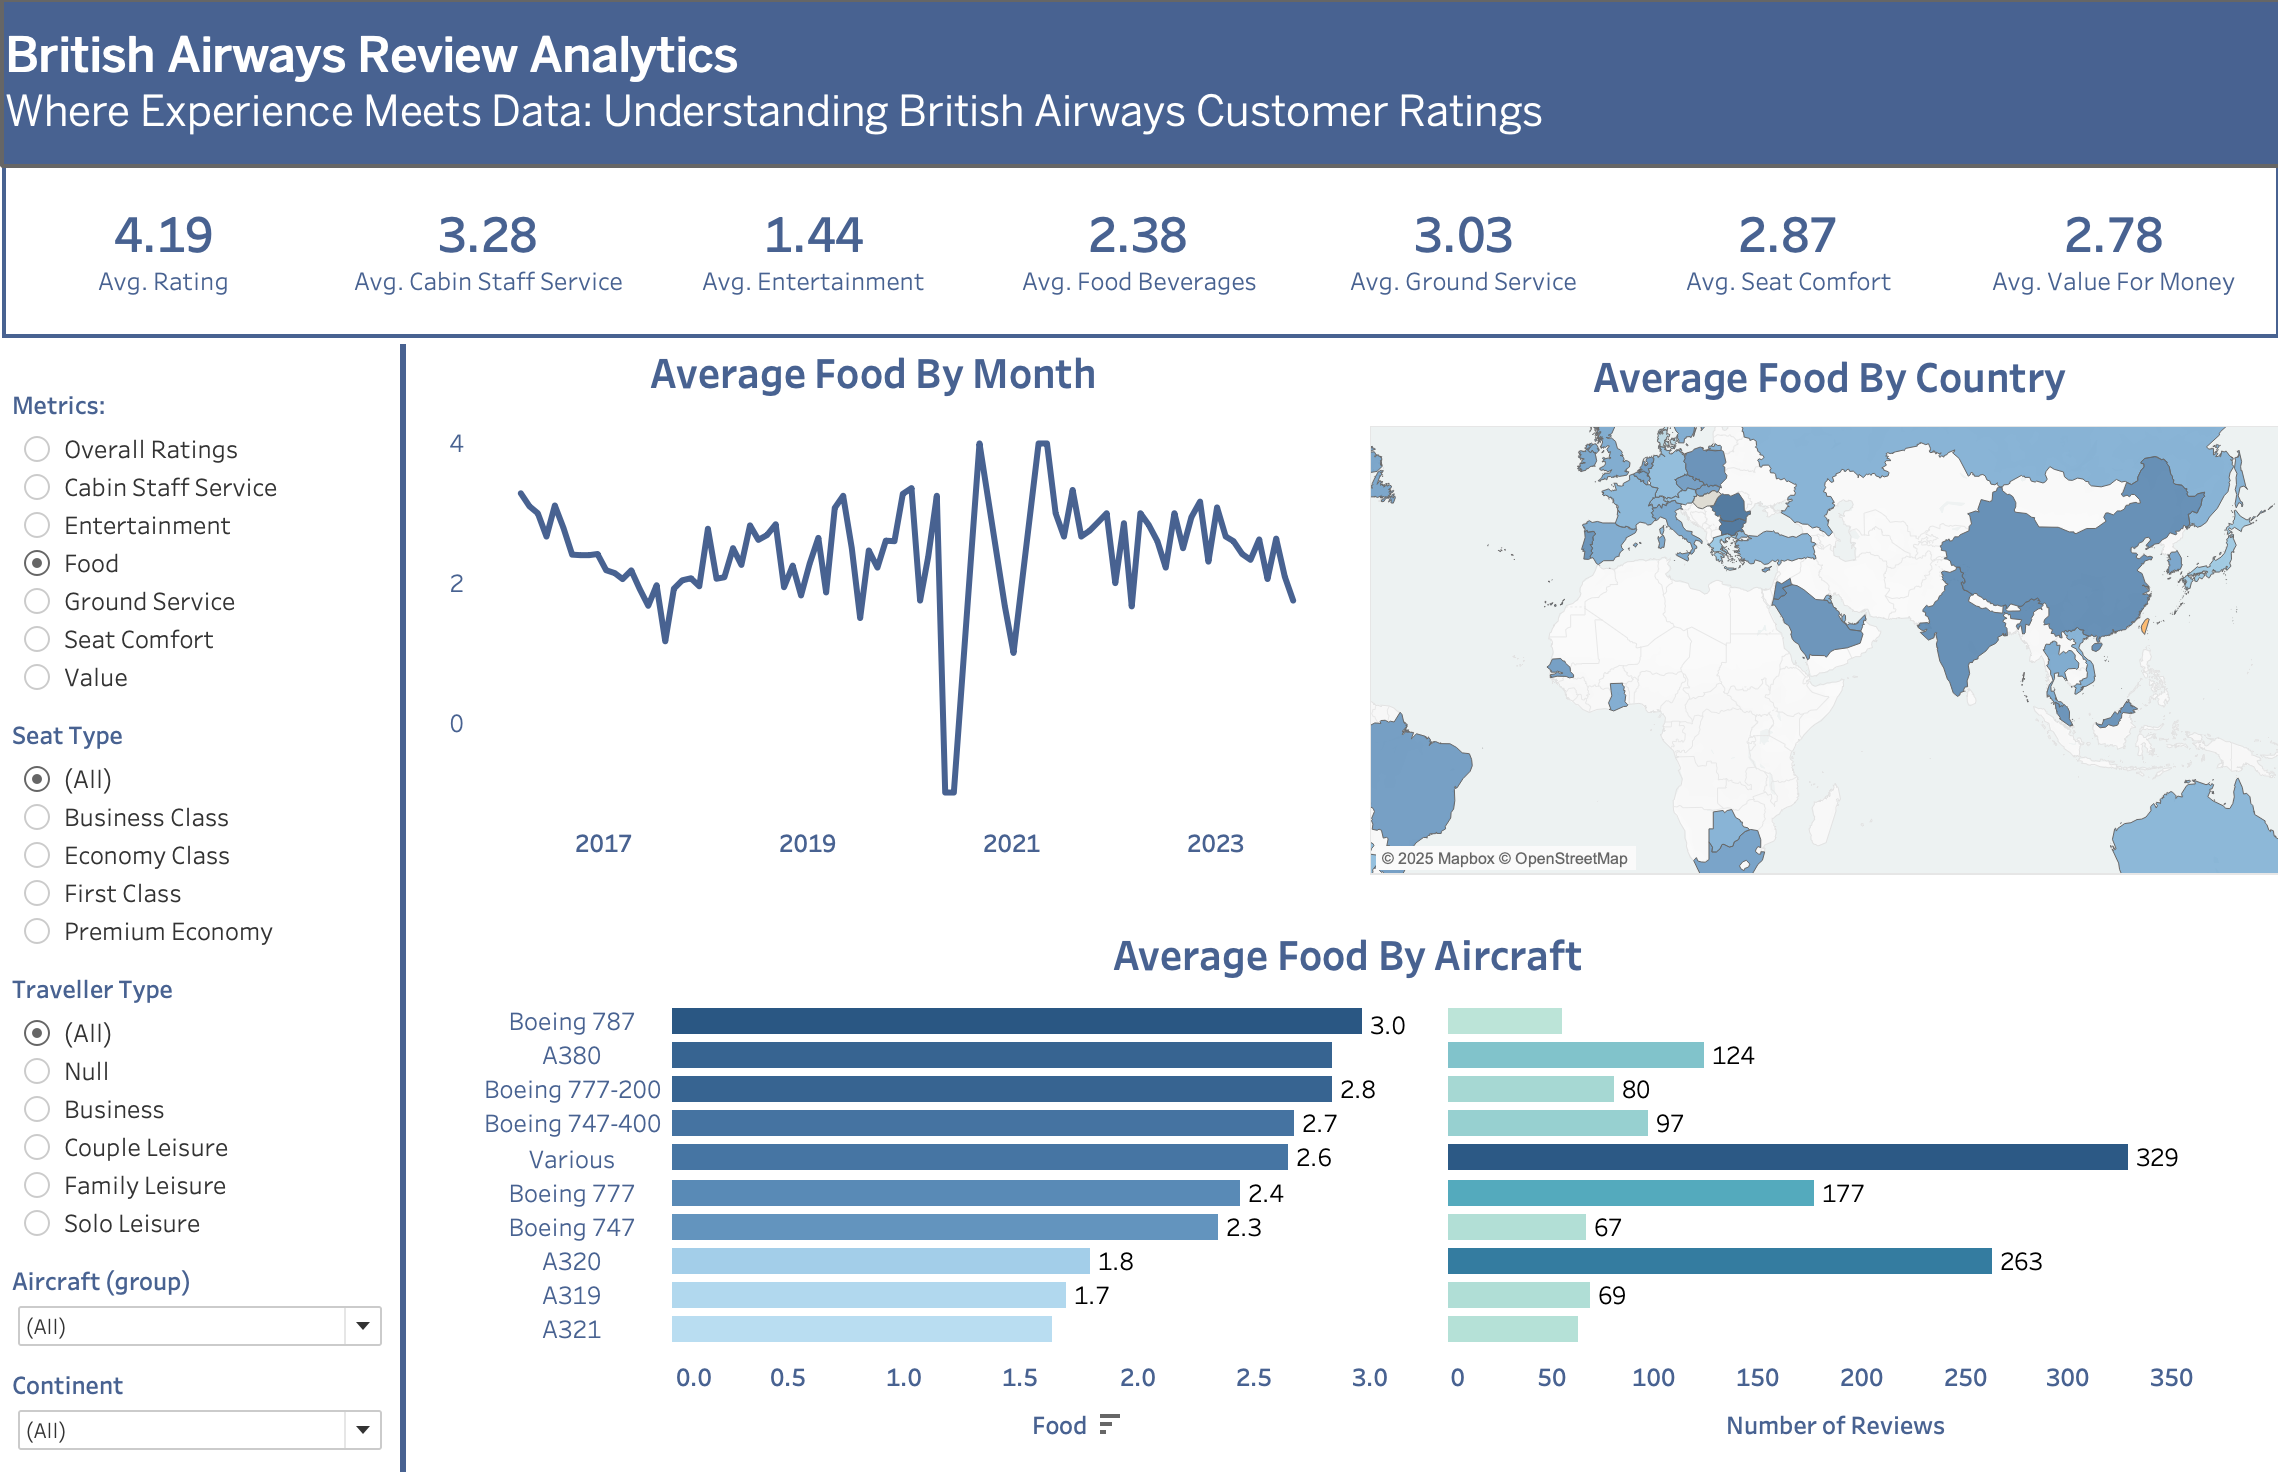

The page's visual inventory and layout, read from the dashboard file:
{"tool":"tableau","page":{"name":"Dashboard 1","canvas":[1200,800],"ordinal":0},"visuals":[{"type":"text","box":[0,56,1140,81]},{"type":"worksheet","title":"Summary","mark":"Automatic","box":[0,136,1140,88]},{"type":"worksheet","title":"Month","mark":"Automatic","rows":["Calculation_1071856725776519168"],"cols":["date"],"box":[207,223,460,268]},{"type":"worksheet","title":"Map","mark":"Automatic","box":[685,225,460,268]},{"type":"blank","box":[200,227,3,564]},{"type":"parameter","param":"[Parameters].[Parameter 1]","box":[2,245.3,196,165]},{"type":"filter","title":"Map","param":"[federated.1j57sd01vuai5p10metdk0n1m013].[none:seat_type:nk]","box":[2,410.3,196,127]},{"type":"worksheet","title":"Aircraft","mark":"Automatic","cols":["Calculation_1071856725776519168","ba_reviews.csv_C92E37649CB04DEBB6536E80CBF41340"],"box":[236,514,876,269]},{"type":"filter","title":"Map","param":"[federated.1j57sd01vuai5p10metdk0n1m013].[none:traveller_type:nk]","box":[2,537.3,196,146]},{"type":"filter","title":"Map","param":"[federated.1j57sd01vuai5p10metdk0n1m013].[Aircraft (group)]","box":[2,683.3,196,52]},{"type":"filter","title":"Map","param":"[federated.1j57sd01vuai5p10metdk0n1m013].[none:Continent:nk]","box":[2,735.3,196,52]}]}

Visuals, with their boxes in screenshot pixels (x1, y1, x2, y2):
text: {"x1": 18, "y1": 10, "x2": 2161, "y2": 163}
"Summary" worksheet: {"x1": 18, "y1": 161, "x2": 2161, "y2": 326}
"Month" worksheet: {"x1": 407, "y1": 324, "x2": 1272, "y2": 828}
"Map" worksheet: {"x1": 1306, "y1": 328, "x2": 2171, "y2": 832}
blank: {"x1": 394, "y1": 332, "x2": 399, "y2": 1392}
parameter: {"x1": 22, "y1": 366, "x2": 390, "y2": 677}
"Map" filter: {"x1": 22, "y1": 677, "x2": 390, "y2": 915}
"Aircraft" worksheet: {"x1": 462, "y1": 872, "x2": 2109, "y2": 1377}
"Map" filter: {"x1": 22, "y1": 915, "x2": 390, "y2": 1190}
"Map" filter: {"x1": 22, "y1": 1190, "x2": 390, "y2": 1288}
"Map" filter: {"x1": 22, "y1": 1288, "x2": 390, "y2": 1385}
